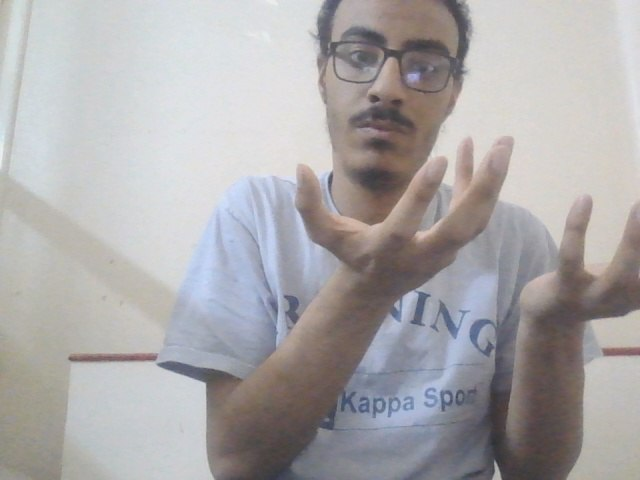What: (287, 132, 640, 342)
